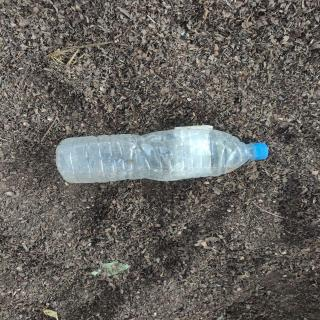Plastic-bottle: (50, 122, 277, 189)
